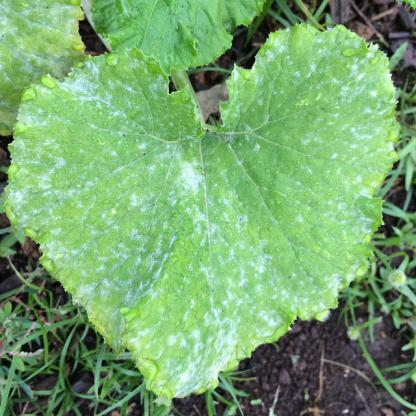Squash Powdery mildew leaf: (7, 20, 400, 403)
